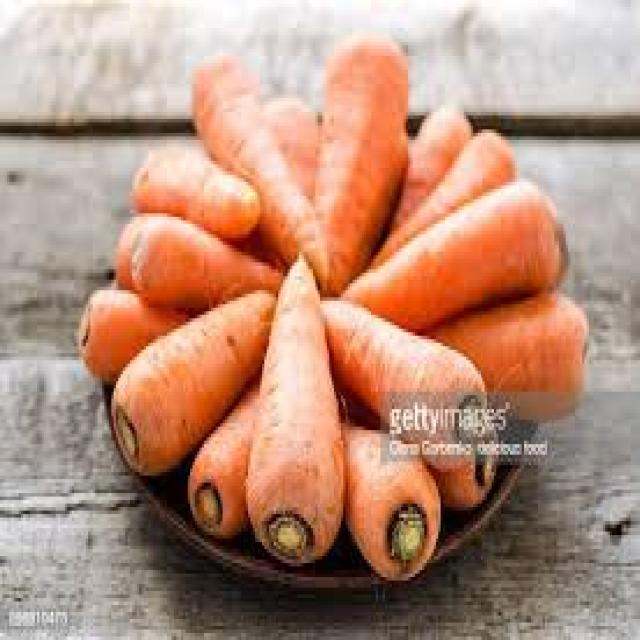Stale_Carrot: (267, 262, 339, 563)
